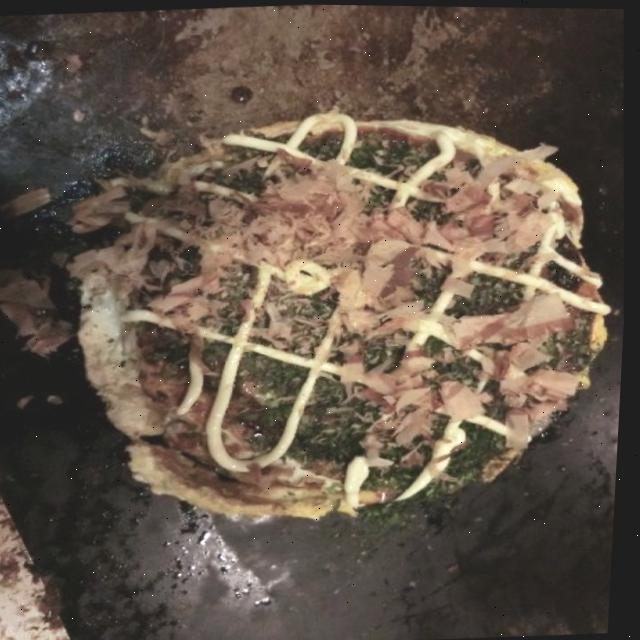蛋糕甜品: (48, 66, 637, 545)
